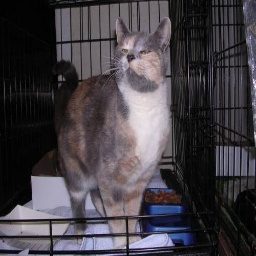cat: (49, 17, 175, 243)
